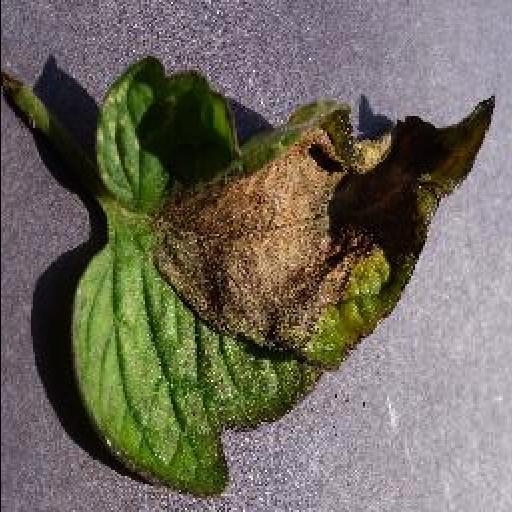disease_tomato: (70, 56, 498, 498)
